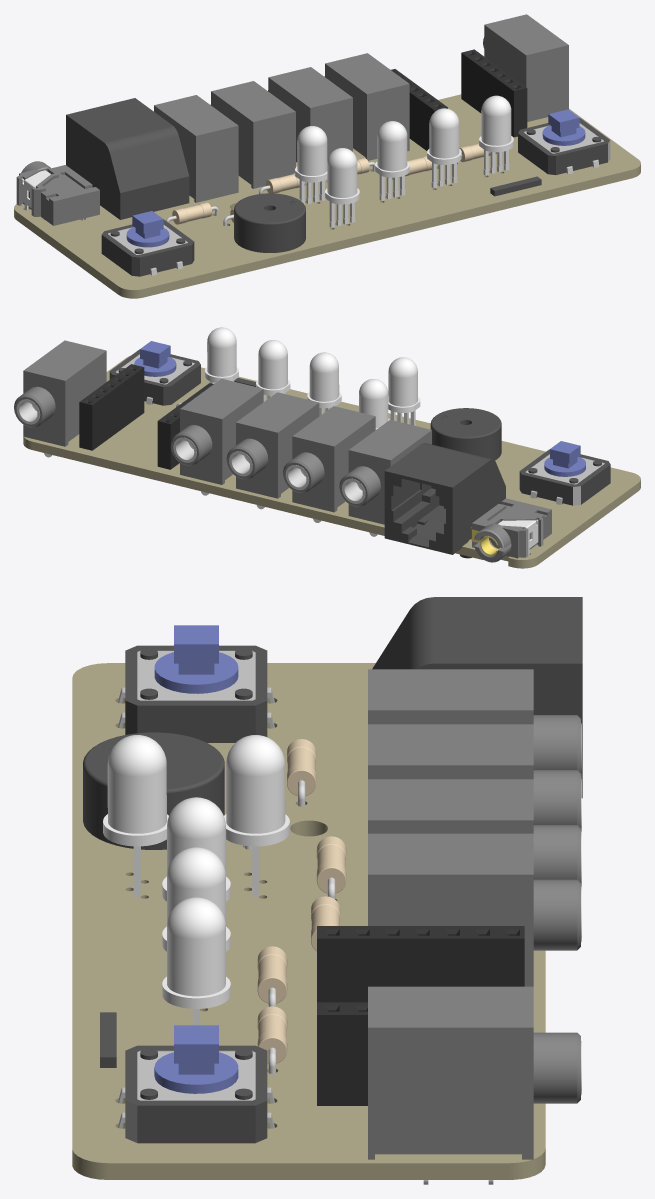
Rendered from Forest-PCB.glb.
3 views of the same model, one above another, from view 1: azimuth 30°, elevation 25°; view 2: azimuth 150°, elevation 25°; view 3: azimuth 270°, elevation 25° (orthographic). The views are drawn at different scales.
Visible parts, largest first — view 1: Forest-Joystick-Mouse-Hub-PCB; view 2: Forest-Joystick-Mouse-Hub-PCB; view 3: Forest-Joystick-Mouse-Hub-PCB.
Boxes of the visible parts, box(x1,y1,x2,y2) form: Forest-Joystick-Mouse-Hub-PCB: box(14, 14, 640, 298); Forest-Joystick-Mouse-Hub-PCB: box(14, 327, 640, 568); Forest-Joystick-Mouse-Hub-PCB: box(72, 597, 582, 1184).
Size of the model in its own units: 10 by 1.83 by 4.31.
